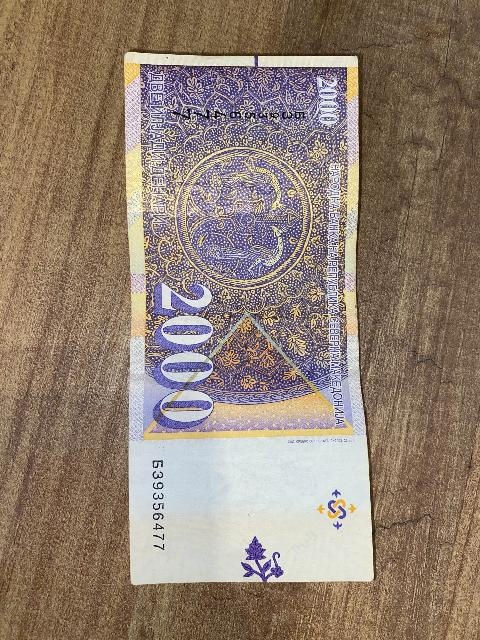2000_note: (125, 54, 372, 583)
